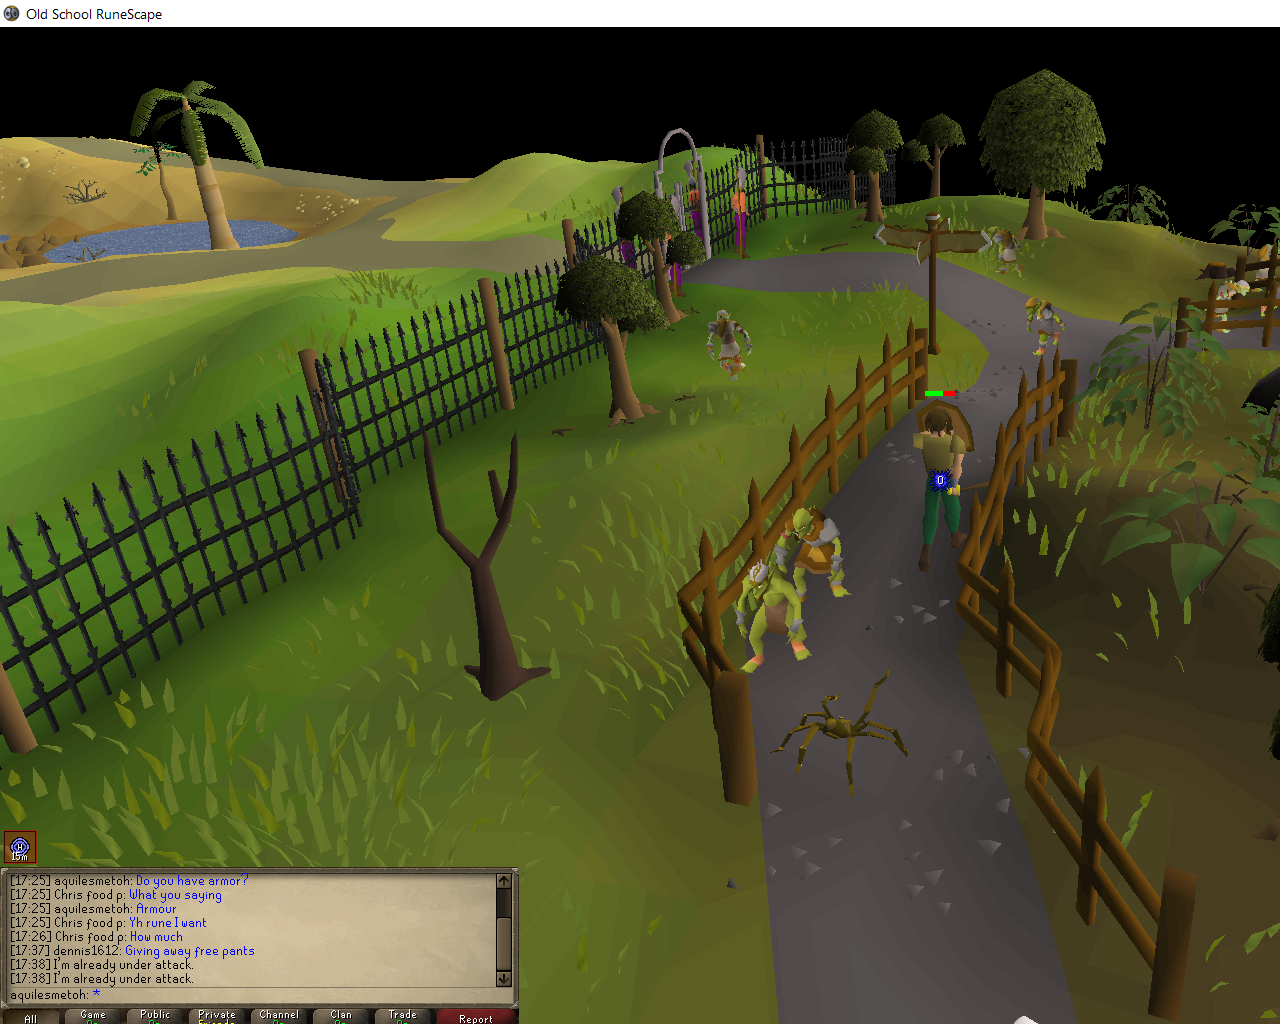Goblin: (732, 564, 809, 674), (776, 504, 853, 605), (702, 309, 757, 377), (1023, 297, 1070, 356), (988, 226, 1029, 280), (1208, 279, 1246, 334)
